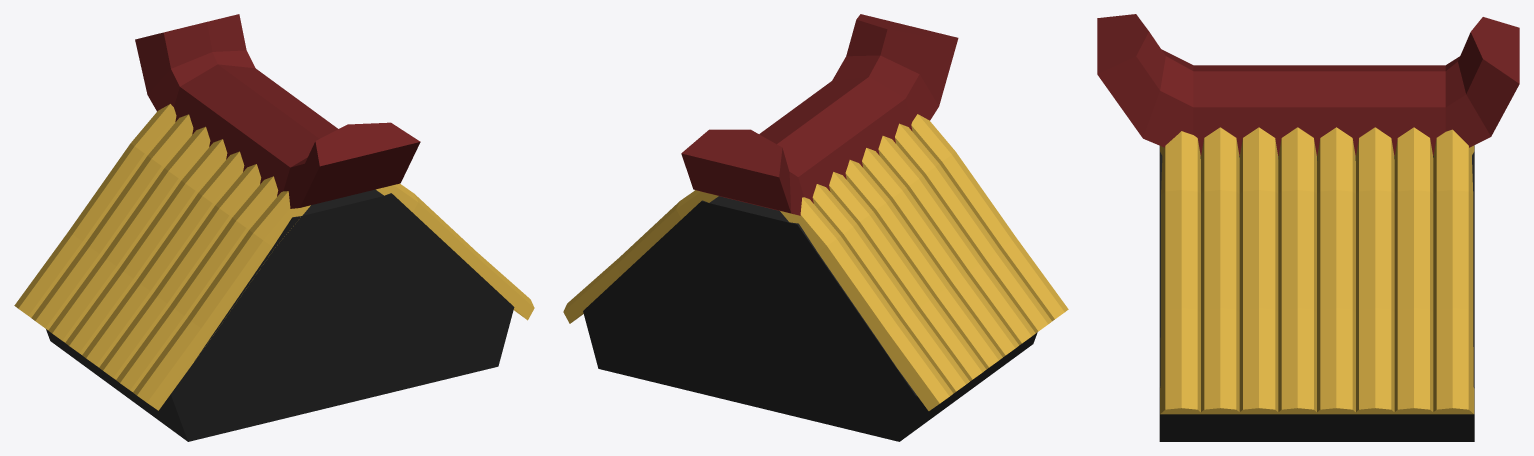
Rendered from Roof2Small.fbx.
The picture shows the model from 3 angles, left to right: view 1: azimuth 30°, elevation 25°; view 2: azimuth 150°, elevation 25°; view 3: azimuth 270°, elevation 25°; orthographic projection. The views are drawn at different scales.
Parts seen in each view (by area): view 1: Cube, Plane.003, Plane.001, Plane.002; view 2: Cube, Plane.003, Plane.001, Plane.002; view 3: Plane.002, Plane.001, Cube.
Part boxes in pixels (x1=…): Cube: x1=46, y1=189, x2=514, y2=441; Plane.003: x1=14, y1=104, x2=310, y2=410; Plane.001: x1=135, y1=14, x2=420, y2=208; Plane.002: x1=376, y1=183, x2=534, y2=320; Cube: x1=583, y1=196, x2=1037, y2=441; Plane.003: x1=780, y1=114, x2=1068, y2=410; Plane.001: x1=681, y1=14, x2=958, y2=215; Plane.002: x1=563, y1=190, x2=718, y2=323; Plane.002: x1=1160, y1=127, x2=1474, y2=414; Plane.001: x1=1097, y1=14, x2=1519, y2=155; Cube: x1=1159, y1=145, x2=1474, y2=441.
Size of the model in its own units: 213 by 146 by 173.
